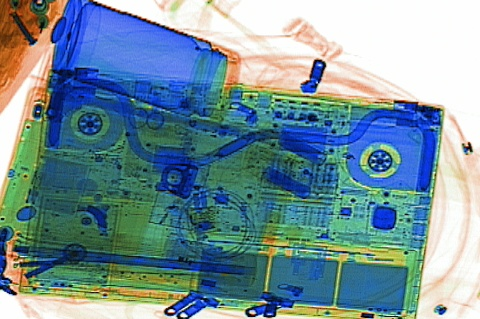powerbank: (22, 146, 93, 221)
